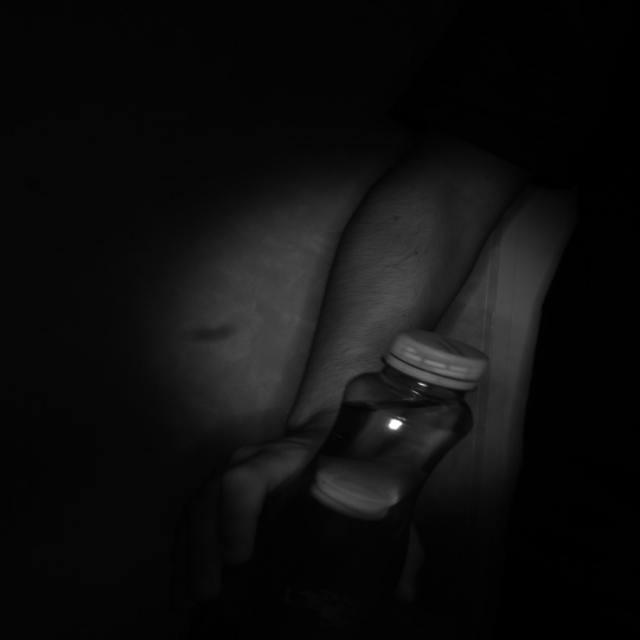Not Good: (390, 328, 488, 390)
